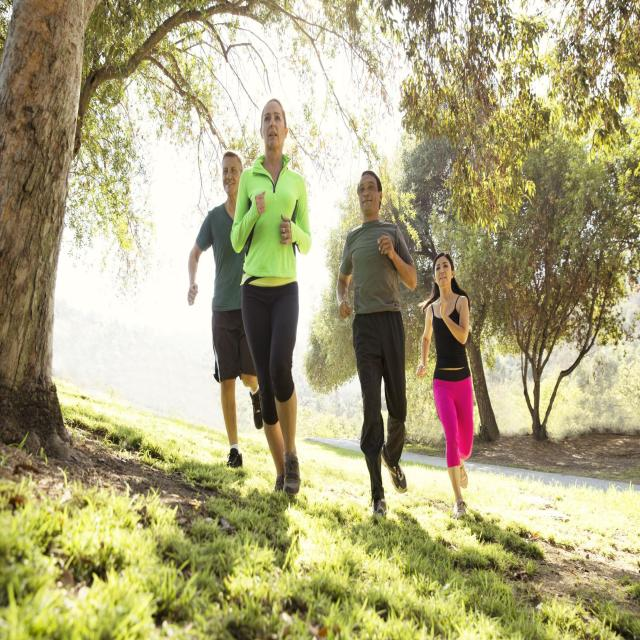body: (227, 95, 314, 516), (334, 166, 420, 531), (187, 151, 264, 471), (417, 249, 481, 524)
